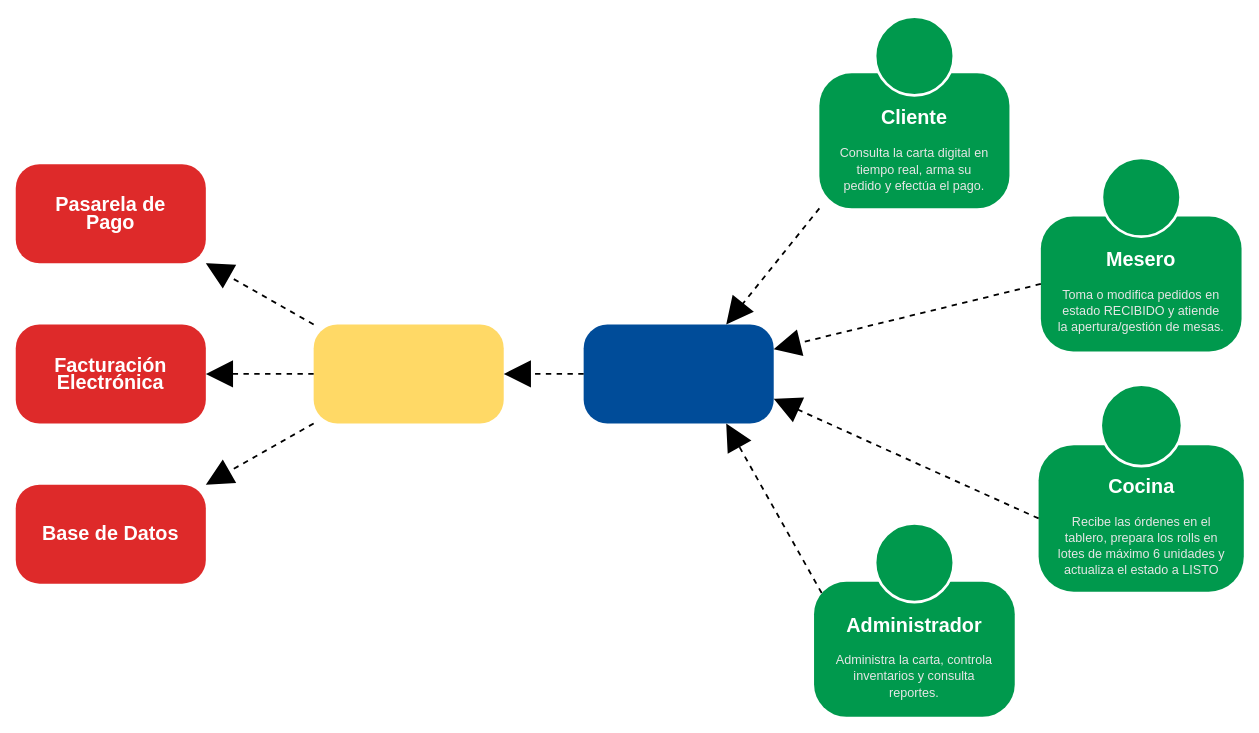
Image size: 1259x733. Some labels were removed from this diagram. The box of each missing label's shape, as (x1, y1, x2, y2) in pixels:
SakuraSushi Core: (313, 324, 503, 423)
SakuraSushi interface: (583, 324, 773, 423)
